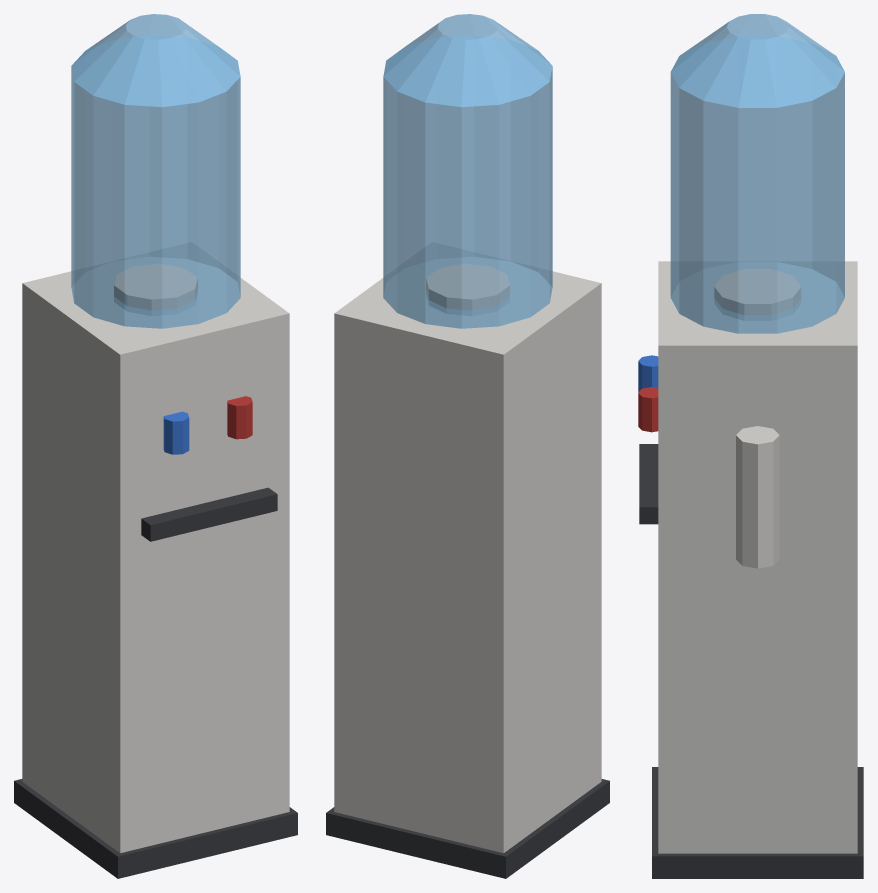
The model's file is water_cooler.glb.
The picture shows the model from 3 angles, left to right: view 1: azimuth 30°, elevation 25°; view 2: azimuth 150°, elevation 25°; view 3: azimuth 270°, elevation 25°; orthographic projection.
Visible parts, largest first — view 1: water_cooler; view 2: water_cooler; view 3: water_cooler.
Boxes of the visible parts, left/top/right/bottom form: water_cooler: left=14, top=14, right=297, bottom=878; water_cooler: left=326, top=14, right=609, bottom=878; water_cooler: left=638, top=14, right=863, bottom=878.
Bounding box in the file's own units: 0.405 × 1.43 × 0.362.
